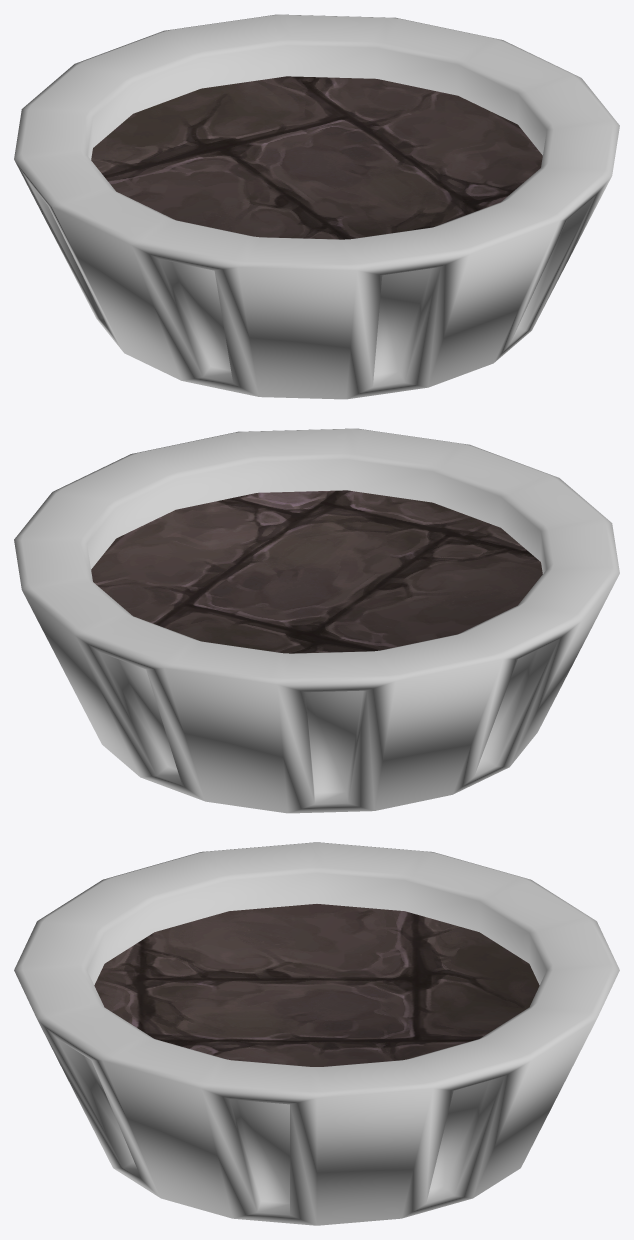
File: FloatingPot.fbx
3 views of the same model, one above another, from view 1: azimuth 30°, elevation 25°; view 2: azimuth 150°, elevation 25°; view 3: azimuth 270°, elevation 25° (orthographic).
Visible parts, largest first — view 1: Cylinder; view 2: Cylinder; view 3: Cylinder.
Part boxes in pixels (bbox=[...]): Cylinder: bbox=[14, 14, 619, 399]; Cylinder: bbox=[14, 428, 619, 813]; Cylinder: bbox=[14, 842, 619, 1225].
Size of the model in its own units: 200 by 60.13 by 200.
